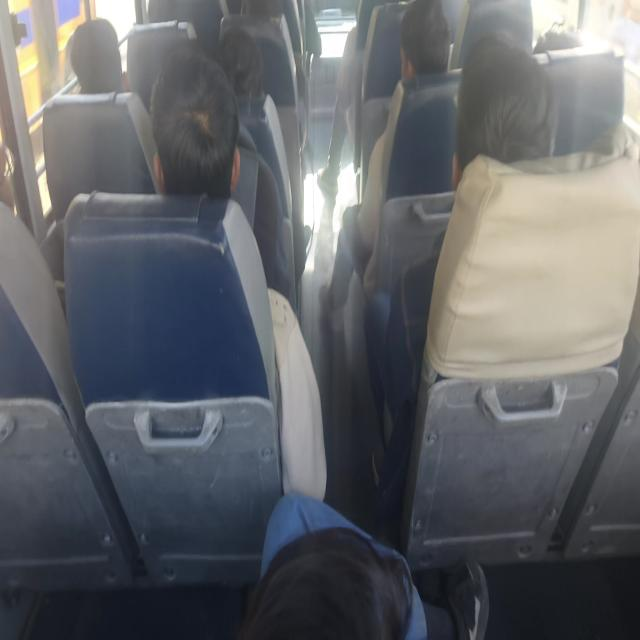person: (372, 35, 558, 514), (148, 42, 327, 500), (148, 42, 297, 310), (242, 490, 490, 638), (352, 0, 452, 295), (317, 0, 402, 199), (452, 35, 558, 190), (148, 43, 241, 198), (69, 17, 130, 94)
